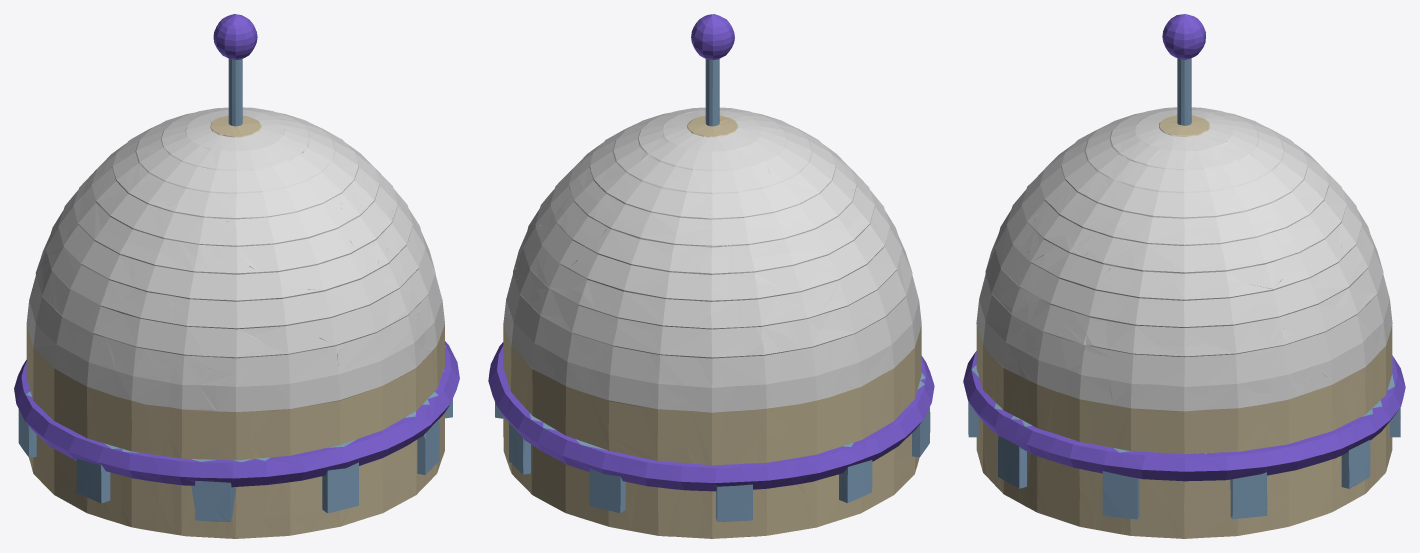
File: hall.glb
3 views of the same model, side by side, from view 1: azimuth 30°, elevation 25°; view 2: azimuth 150°, elevation 25°; view 3: azimuth 270°, elevation 25° (orthographic).
Parts seen in each view (by area): view 1: hall; view 2: hall; view 3: hall.
Part boxes in pixels (bbox=[...]): hall: bbox=[14, 14, 459, 538]; hall: bbox=[488, 14, 934, 538]; hall: bbox=[963, 14, 1405, 538].
Bounding box in the file's own units: 1.95 × 2.1 × 1.93.
